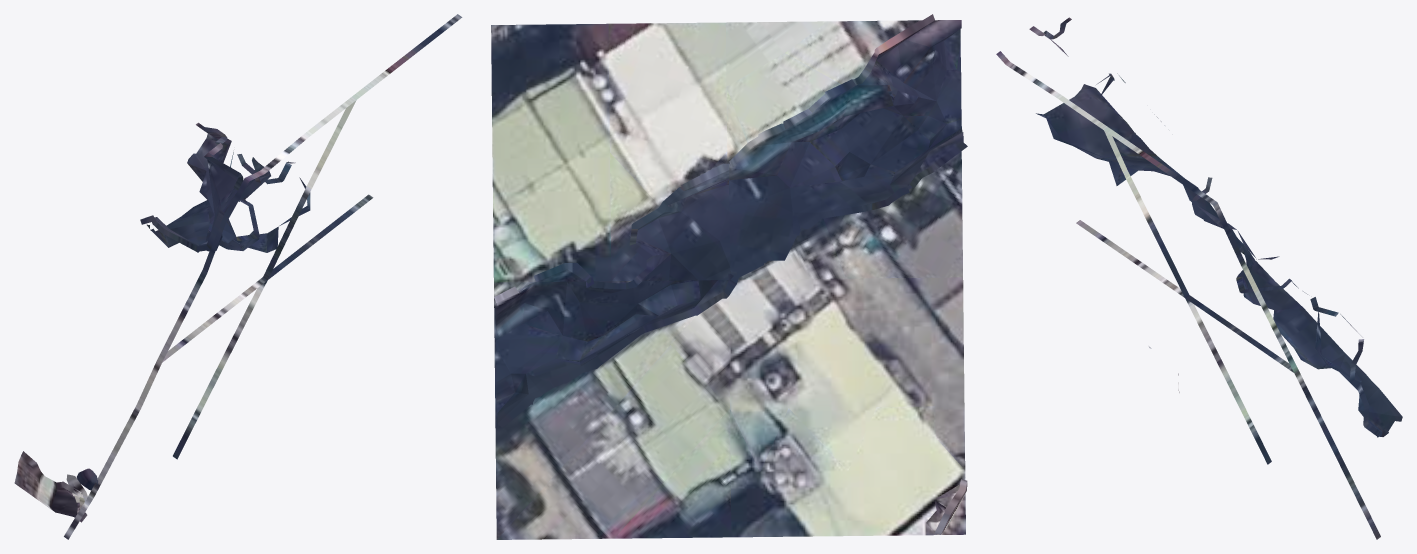
3 views of the same model, side by side, from view 1: azimuth 30°, elevation 25°; view 2: azimuth 150°, elevation 25°; view 3: azimuth 270°, elevation 25° (orthographic). The views are drawn at different scales.
Bounding box in the file's own units: 40.26 × 37.77 × 33.78.
1 material, 1 textured.
